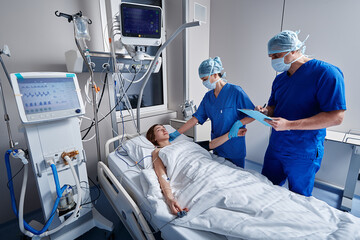Doctor: (266, 28, 325, 121), (197, 58, 238, 127)
monitoring system: (7, 68, 93, 170)
patient: (146, 123, 188, 188)
